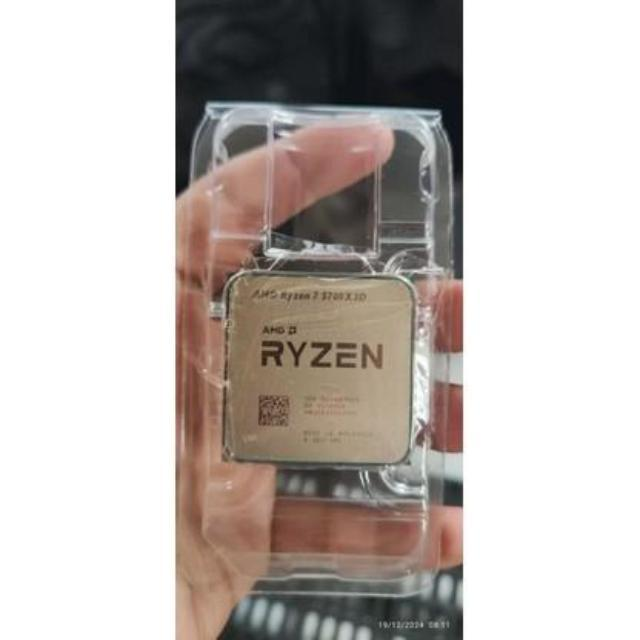CPU: (219, 274, 413, 463)
